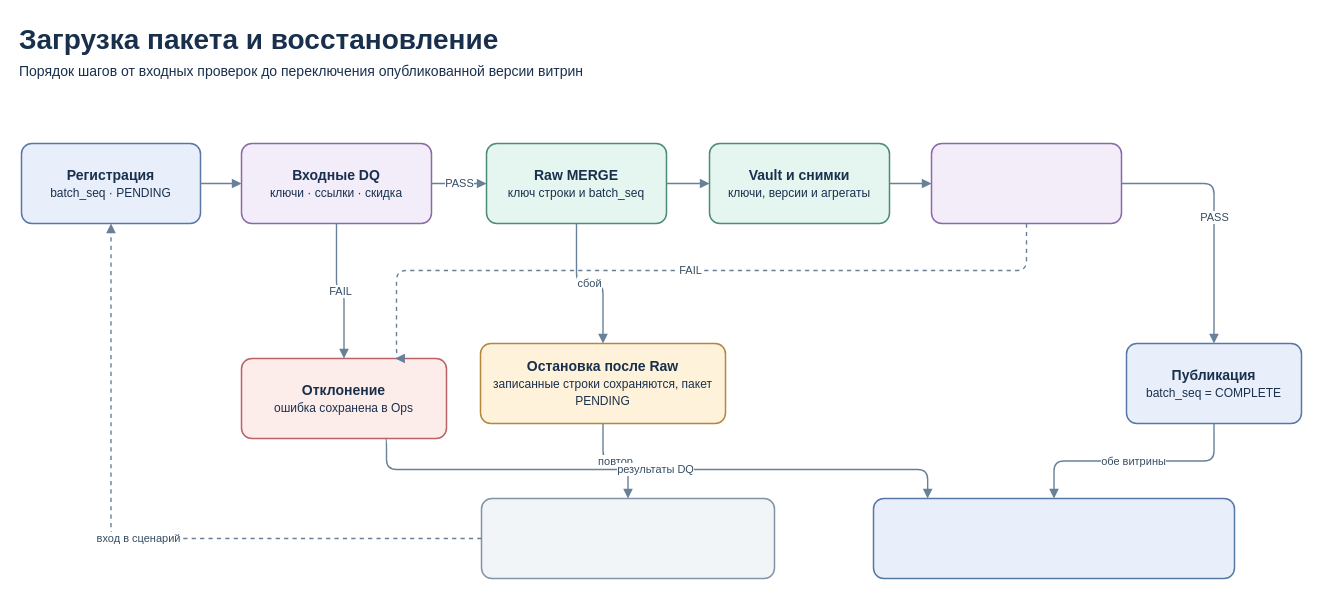
This 1322x596 diagram has some shape labels left out. Here are the shapes that lost their labels. From the top down, the centre of each, then its label:
[1026,183]: DQ модели структура и сверка витрин
[627,538]: Повтор того же пакета тот же номер и время загрузки · повторный MERGE
[1053,538]: Состояние дашборда DQ показывает прогоны и отказы Бизнес-метрики читают COMPLETE
